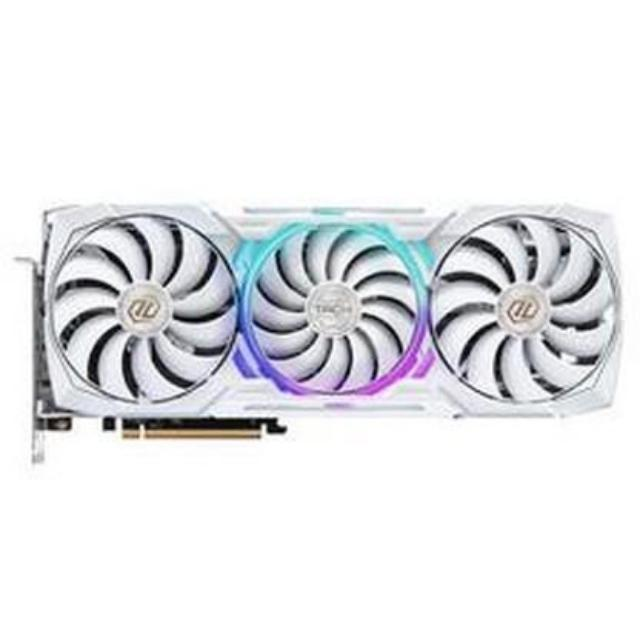GPU: (38, 202, 630, 438)
